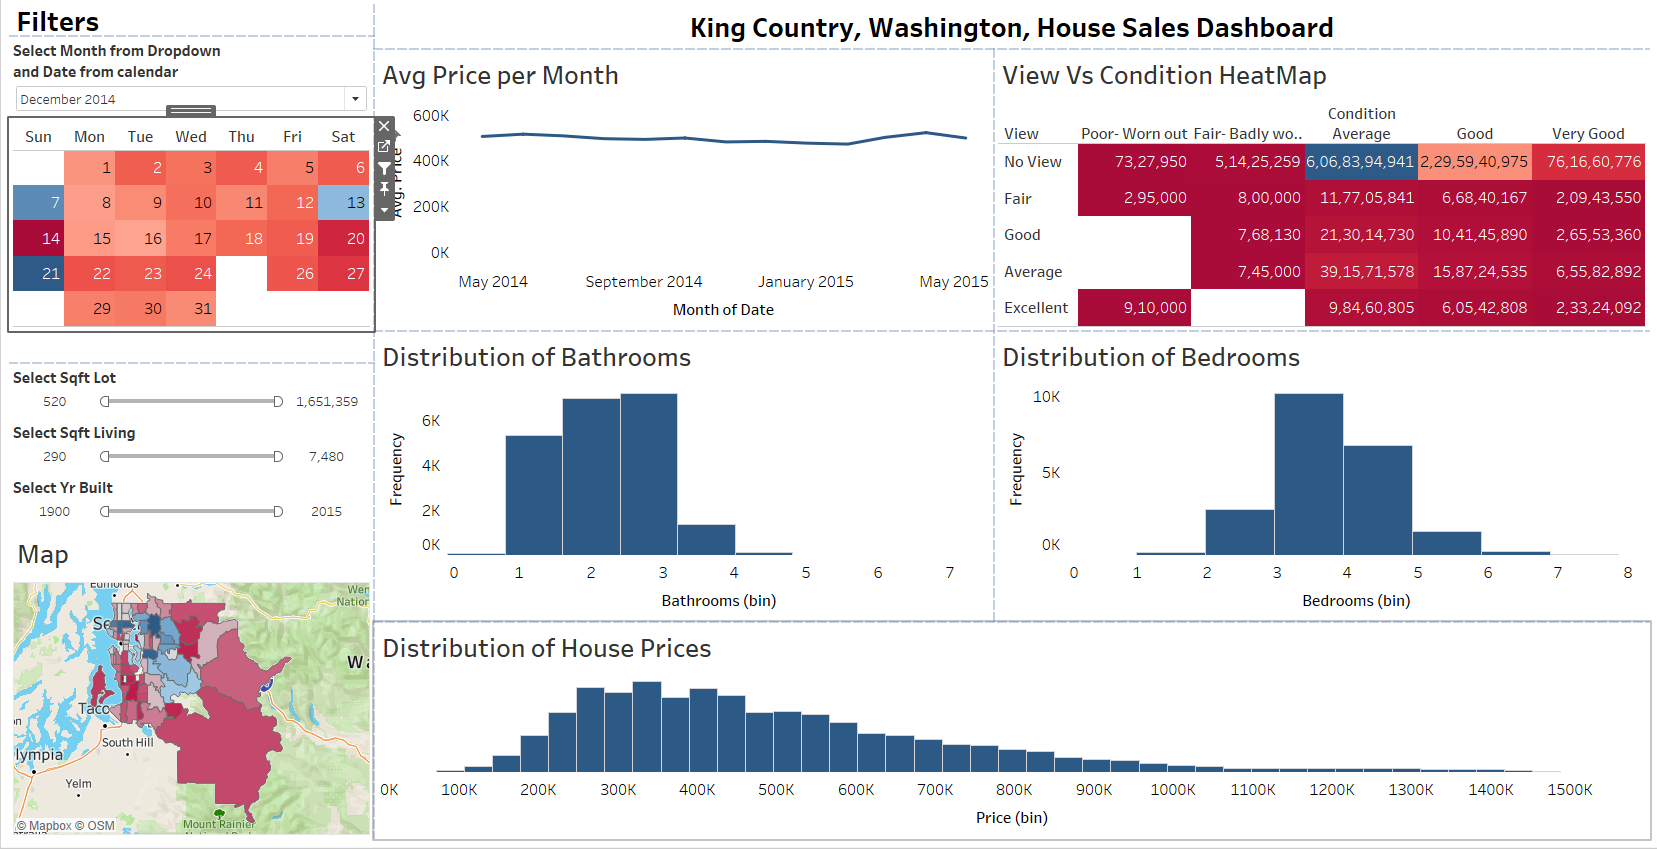

What the dashboard file says about the page in this screenshot:
{"tool":"tableau","page":{"name":"House Sales DB","canvas":[1000,1000],"units":"permille","ordinal":0},"visuals":[{"type":"text","box":[4.8,9.4,220.2,37.6]},{"type":"text","box":[225.1,9.4,770.1,52.9]},{"type":"filter","title":"Filter","param":"[federated.0ayagg51dee67o1ffpir30uzy7hd].[my:date:ok]","box":[4.8,47,220.2,96.4]},{"type":"worksheet","title":"Avg Price per Month","mark":"Automatic","rows":["price"],"cols":["date"],"box":[225.1,62.3,374.5,331.4]},{"type":"worksheet","title":"HeatMap","mark":"Square","rows":["view"],"cols":["condition"],"box":[599.5,62.3,395.6,331.4]},{"type":"worksheet","title":"Filter","mark":"Square","rows":["date"],"cols":["date"],"box":[4.8,143.4,220.2,250.3]},{"type":"worksheet","title":"Histogram of Bathrooms","mark":"Automatic","rows":["bathrooms"],"cols":["Bathrooms (bin)"],"box":[225.1,393.7,374.5,342.2]},{"type":"worksheet","title":"Histogram of Bedrooms","mark":"Automatic","rows":["bedrooms"],"cols":["Bedrooms (bin)"],"box":[599.5,393.7,395.6,342.2]},{"type":"filter","title":"Filter","param":"[federated.0ayagg51dee67o1ffpir30uzy7hd].[none:sqft_lot:qk]","box":[4.8,431.3,220.2,64.6]},{"type":"filter","title":"Filter","param":"[federated.0ayagg51dee67o1ffpir30uzy7hd].[none:sqft_living:qk]","box":[4.8,495.9,220.2,64.6]},{"type":"filter","title":"Filter","param":"[federated.0ayagg51dee67o1ffpir30uzy7hd].[none:yr_built:qk]","box":[4.8,560.5,220.2,64.6]},{"type":"worksheet","title":"Map","mark":"Automatic","box":[4.8,625.1,220.2,365.4]},{"type":"worksheet","title":"Histogram","mark":"Automatic","rows":["price"],"cols":["Price (bin)"],"box":[225.1,735.9,770.1,254.7]}]}

Visuals, with their boxes on the dashboard's canvas, which has no fixed pixel size, in thousandths of its width and height (x1, y1, x2, y2). These are canvas units, not pixel positions in the 1657x849 screenshot, which may show the page scaled, cropped or inside an application window:
text: Rect(5, 9, 225, 47)
text: Rect(225, 9, 995, 62)
"Filter" filter: Rect(5, 47, 225, 143)
"Avg Price per Month" worksheet: Rect(225, 62, 600, 394)
"HeatMap" worksheet (Square marks): Rect(600, 62, 995, 394)
"Filter" worksheet (Square marks): Rect(5, 143, 225, 394)
"Histogram of Bathrooms" worksheet: Rect(225, 394, 600, 736)
"Histogram of Bedrooms" worksheet: Rect(600, 394, 995, 736)
"Filter" filter: Rect(5, 431, 225, 496)
"Filter" filter: Rect(5, 496, 225, 560)
"Filter" filter: Rect(5, 560, 225, 625)
"Map" worksheet: Rect(5, 625, 225, 990)
"Histogram" worksheet: Rect(225, 736, 995, 991)
